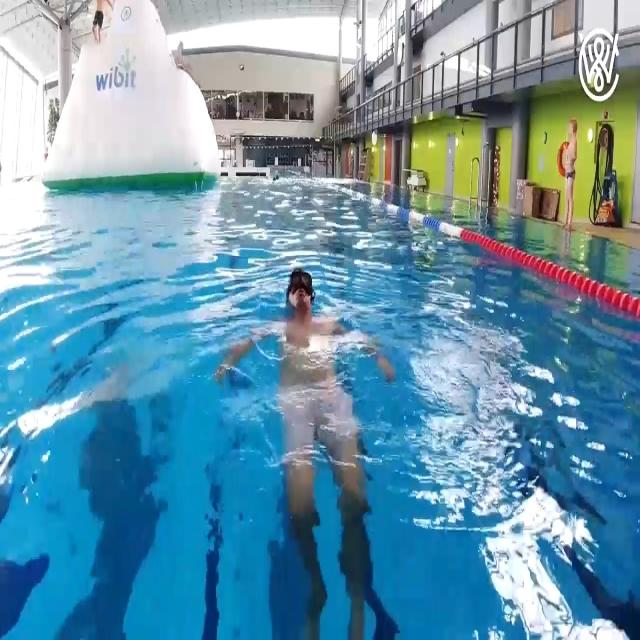Swimming: (276, 268, 346, 391)
